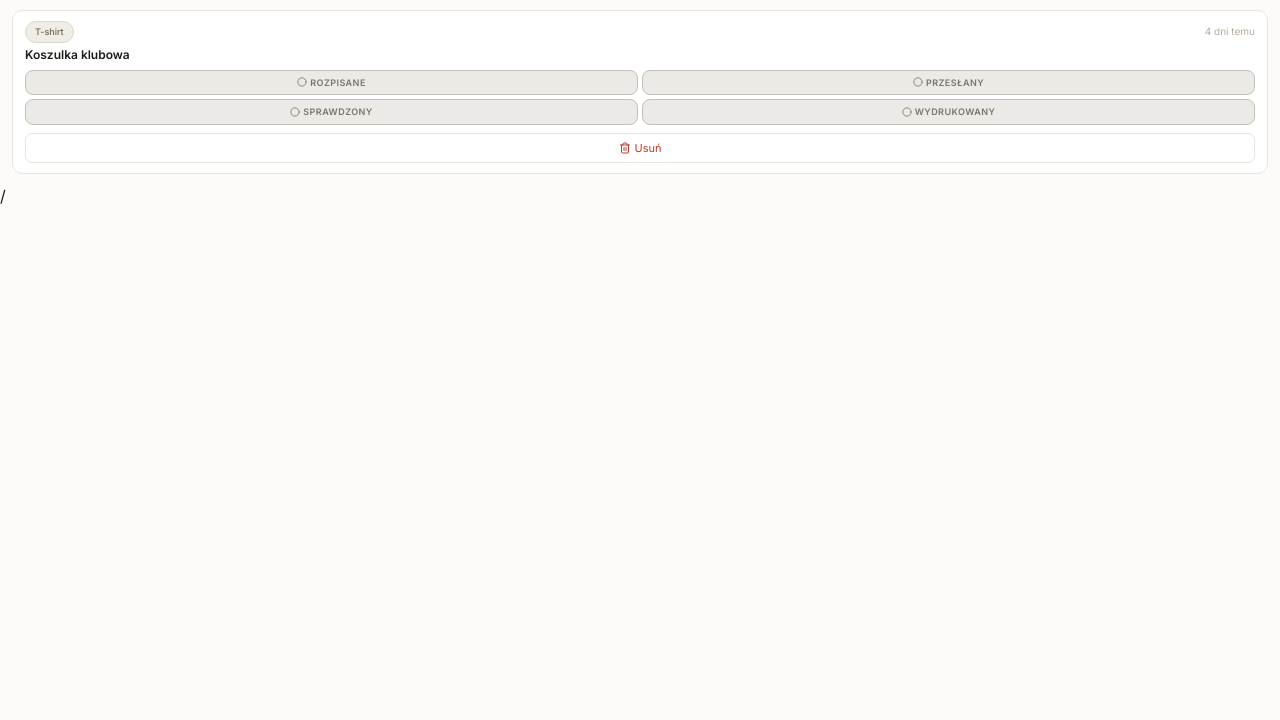
Test: ProjektKarty › „Anuluj" zamyka sheet bez mutacji
The width and height of the screenshot is (1280, 720).
What coordinates should you click on to do the following:
click the button "ROZPISANE"
I would click on:
 (332, 82)
Its box is [25,70,638,95].
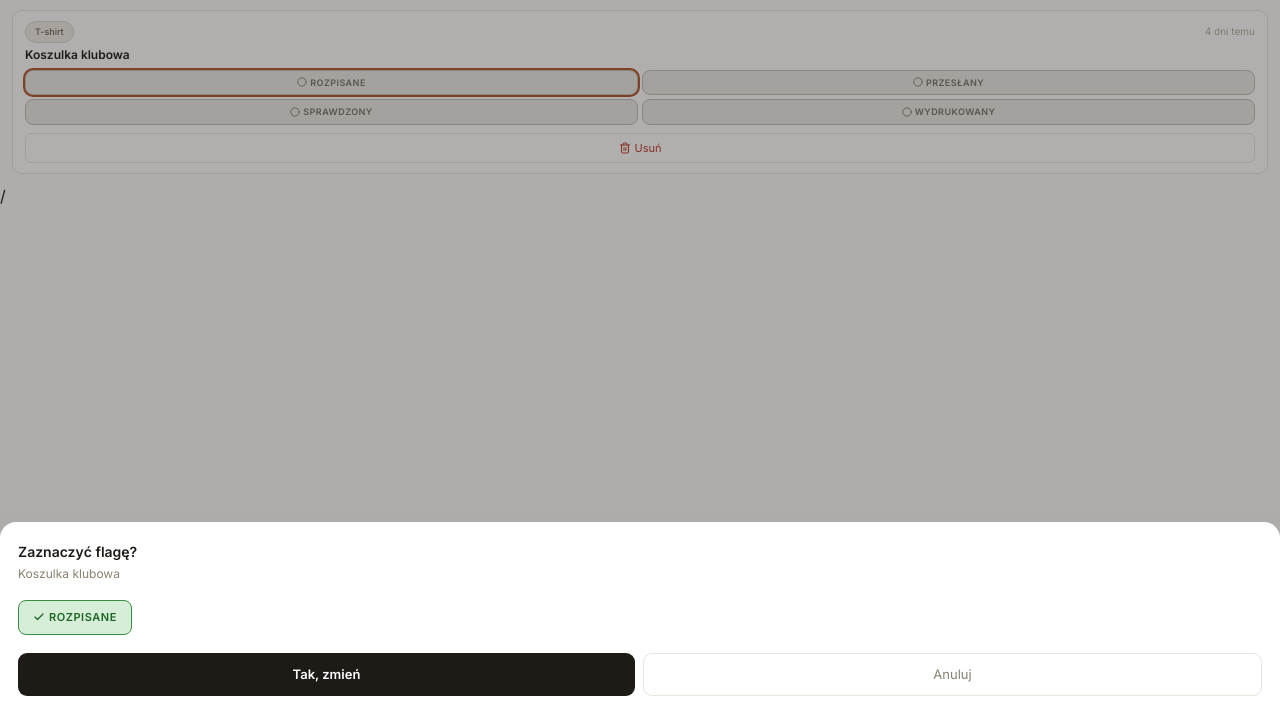
What coordinates should you click on to do the following:
click the button "Anuluj"
I would click on:
 (952, 674)
Its box is [643,652,1262,696].
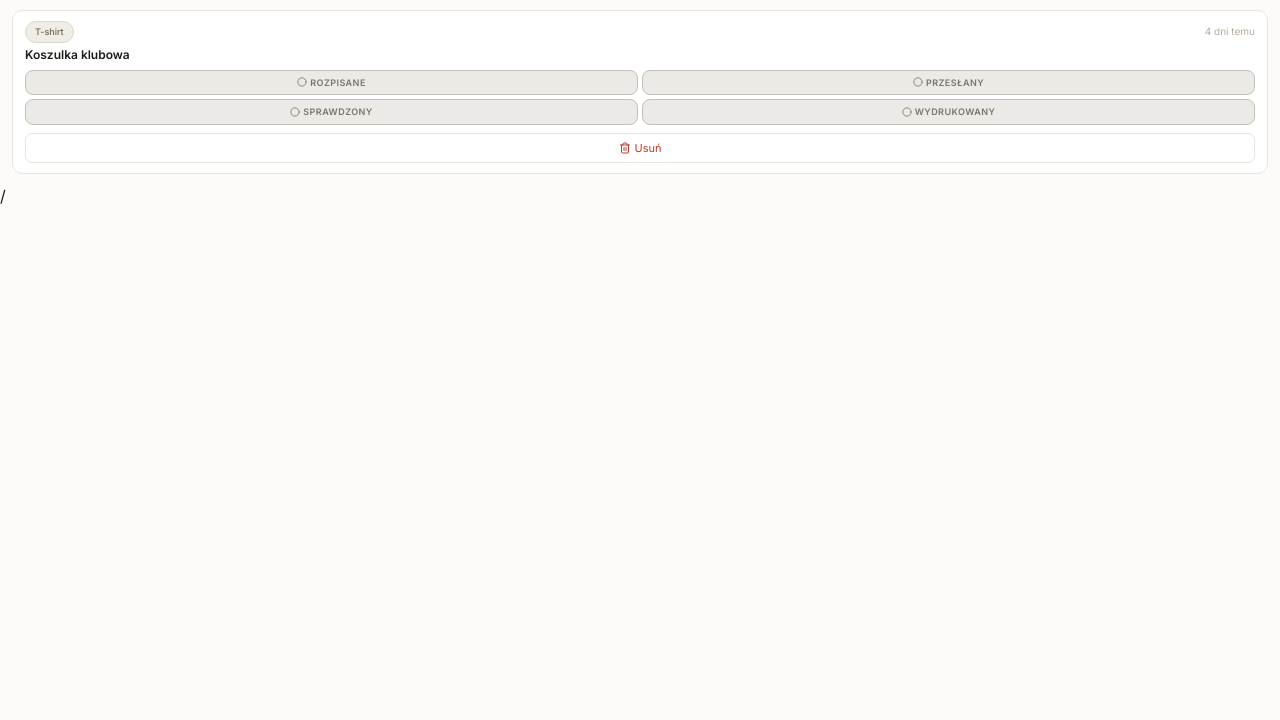
Check: the dialog is gone
